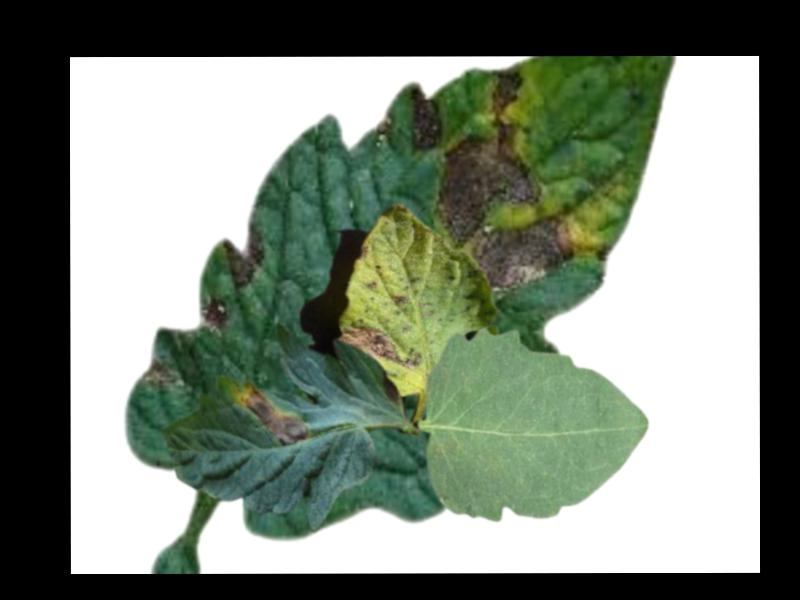Early_blight: (436, 63, 579, 290), (239, 384, 310, 444), (339, 321, 426, 367), (223, 223, 265, 291), (409, 95, 443, 153), (199, 301, 228, 329), (398, 289, 411, 305)
healthy: (423, 328, 647, 522)
